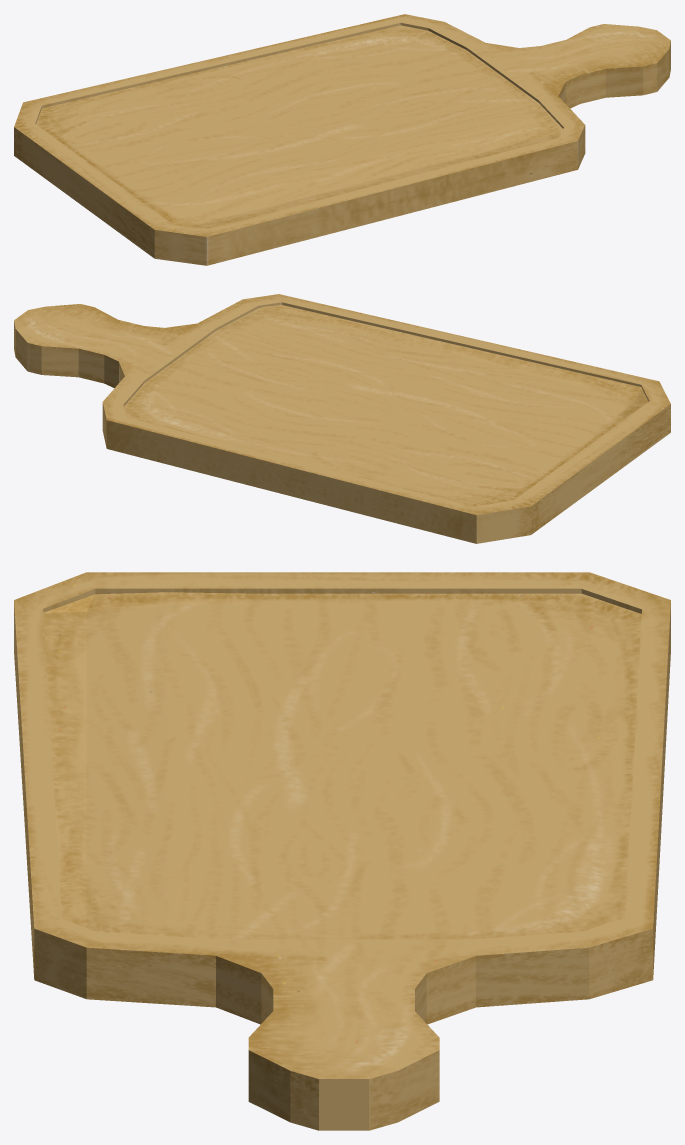
The model's file is Tabla de picar .fbx.
3 renders of one model, top to bottom at view 1: azimuth 30°, elevation 25°; view 2: azimuth 150°, elevation 25°; view 3: azimuth 270°, elevation 25°, orthographic. The views are drawn at different scales.
Visible parts, largest first — view 1: tabla; view 2: tabla; view 3: tabla.
Part boxes in pixels (x1,y1,x2,y2): tabla: (14, 14, 670, 265); tabla: (14, 294, 670, 543); tabla: (14, 572, 670, 1130).
Bounding box in the file's own units: 365 × 17.35 × 200.
1 material, 1 textured.
